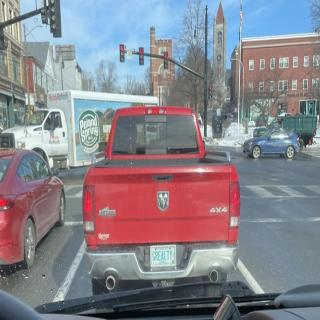license: (151, 246, 178, 268)
